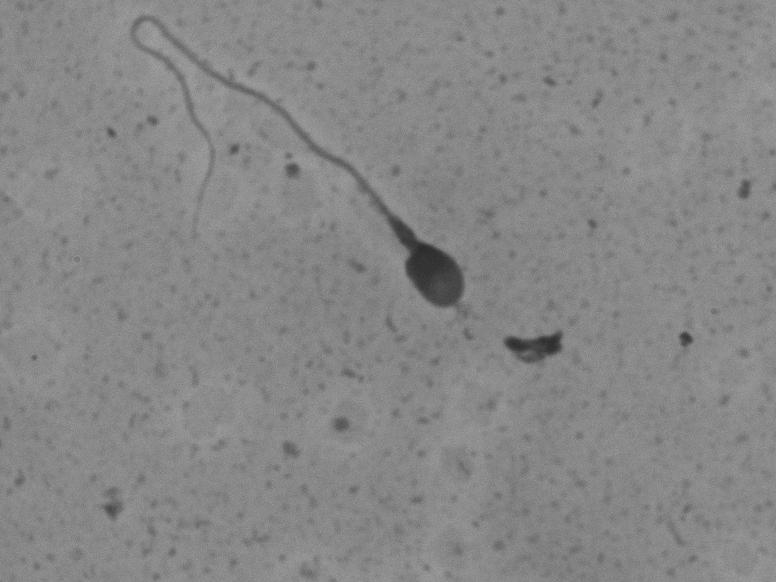Abnormal: (103, 5, 481, 333)
